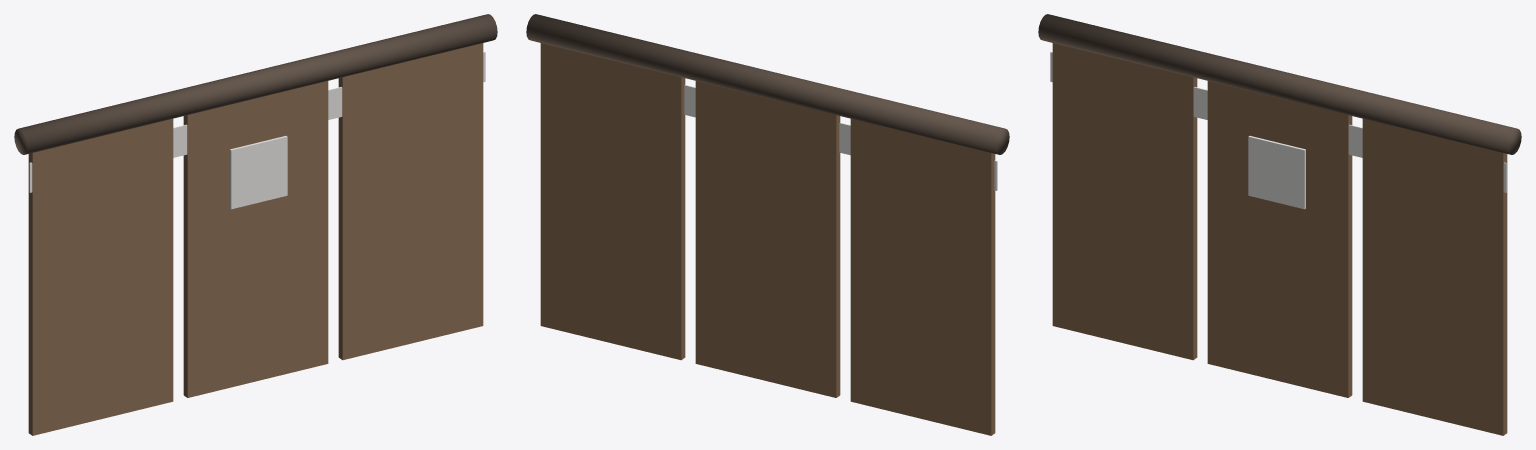
The model's file is prop_noren_cha.glb.
3 views of the same model, side by side, from view 1: azimuth 30°, elevation 25°; view 2: azimuth 150°, elevation 25°; view 3: azimuth 330°, elevation 25° (orthographic).
Parts seen in each view (by area): view 1: noren_cha; view 2: noren_cha; view 3: noren_cha.
Part boxes in pixels (box(x1,y1,x2,y2)): noren_cha: box(14, 14, 497, 435); noren_cha: box(526, 14, 1009, 435); noren_cha: box(1038, 14, 1521, 435).
Bounding box in the file's own units: 2 × 1.25 × 0.1.
